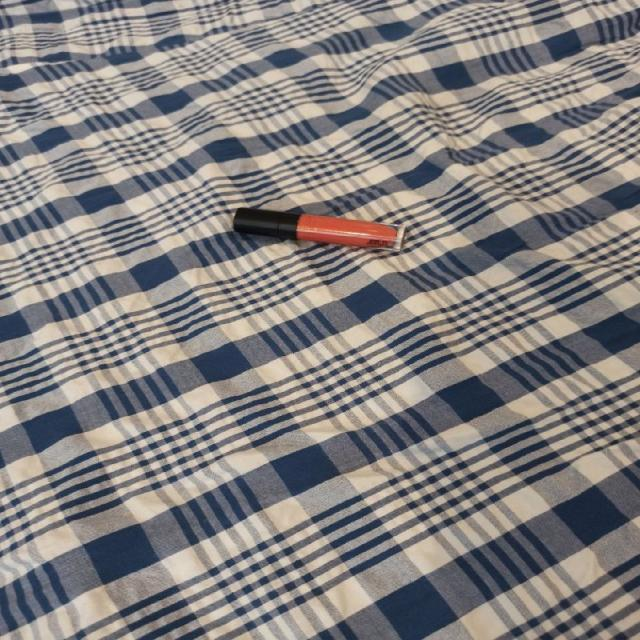lipstick: (231, 206, 406, 252)
